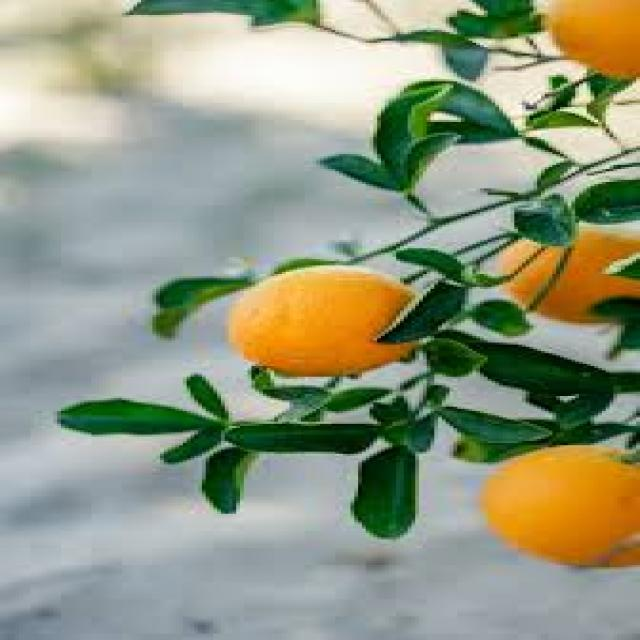orange: (225, 264, 435, 388), (495, 439, 640, 576)
